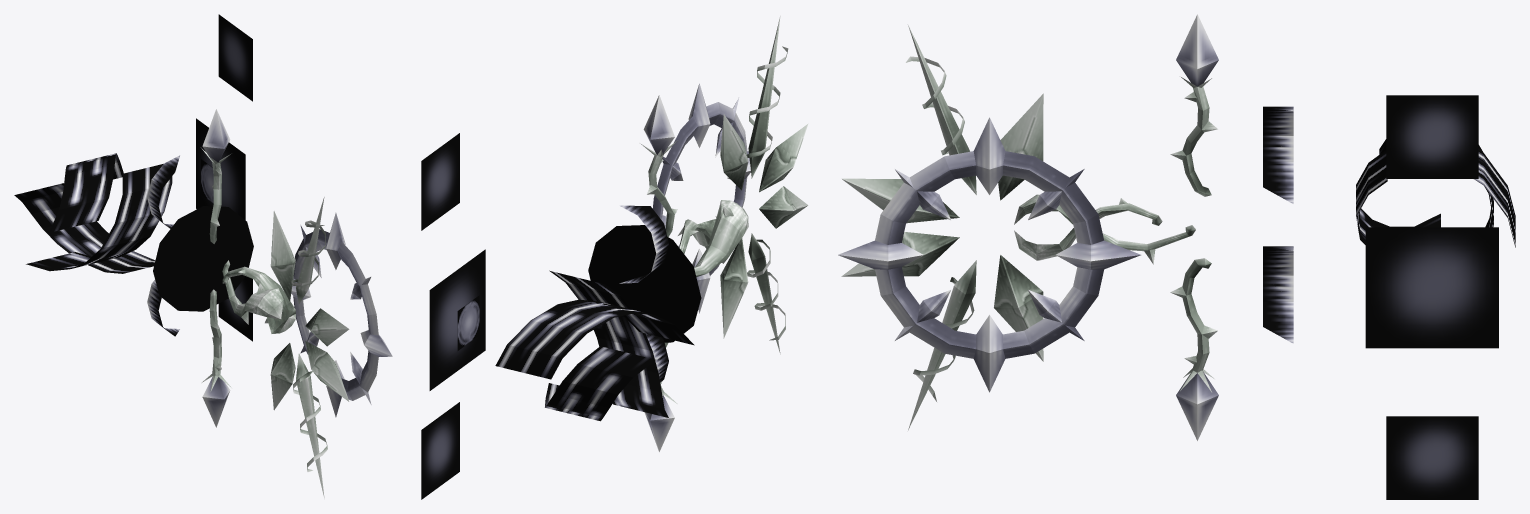
3 views of the same model, side by side, from view 1: azimuth 30°, elevation 25°; view 2: azimuth 150°, elevation 25°; view 3: azimuth 270°, elevation 25° (orthographic). The views are drawn at different scales.
Parts seen in each view (by area): view 1: M_0121_0, M_0121_1; view 2: M_0121_1, M_0121_0; view 3: M_0121_0, M_0121_1.
Boxes of the visible parts, left/top/right/bottom form: M_0121_0: left=153, top=109, right=392, bottom=498; M_0121_1: left=14, top=14, right=252, bottom=341; M_0121_1: left=421, top=133, right=694, bottom=499; M_0121_0: left=588, top=15, right=808, bottom=451; M_0121_0: left=838, top=14, right=1218, bottom=440; M_0121_1: left=1263, top=95, right=1515, bottom=499.
Bounding box in the file's own units: 7.47 × 11.02 × 15.85.
Materials: 2 (2 with a texture image).
